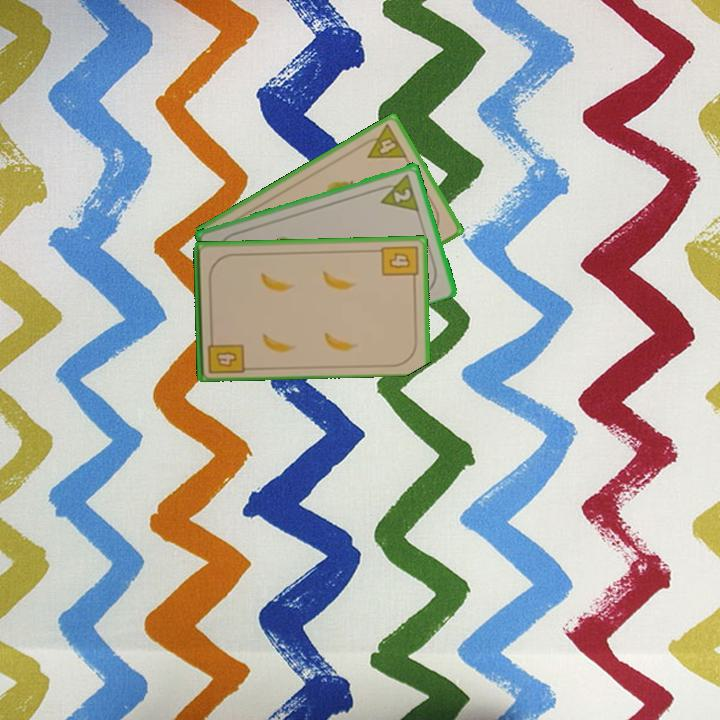2p: (373, 170, 422, 213)
4b: (204, 331, 246, 376), (378, 242, 420, 284)
4p: (357, 120, 410, 161)
